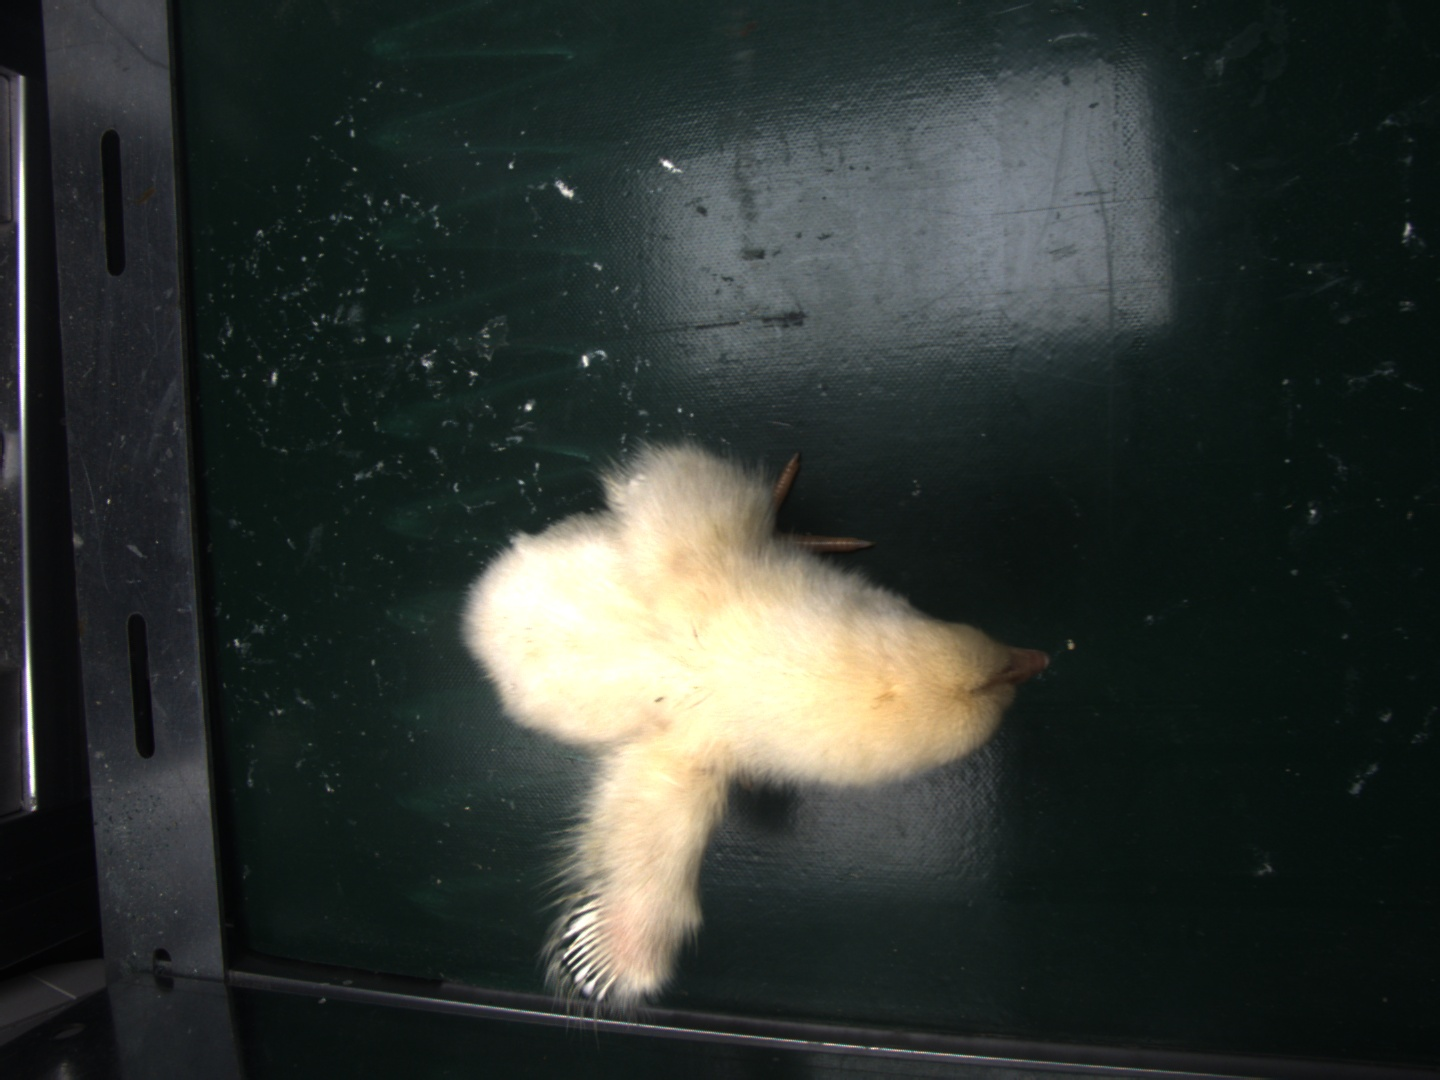male: (559, 897, 622, 1006)
